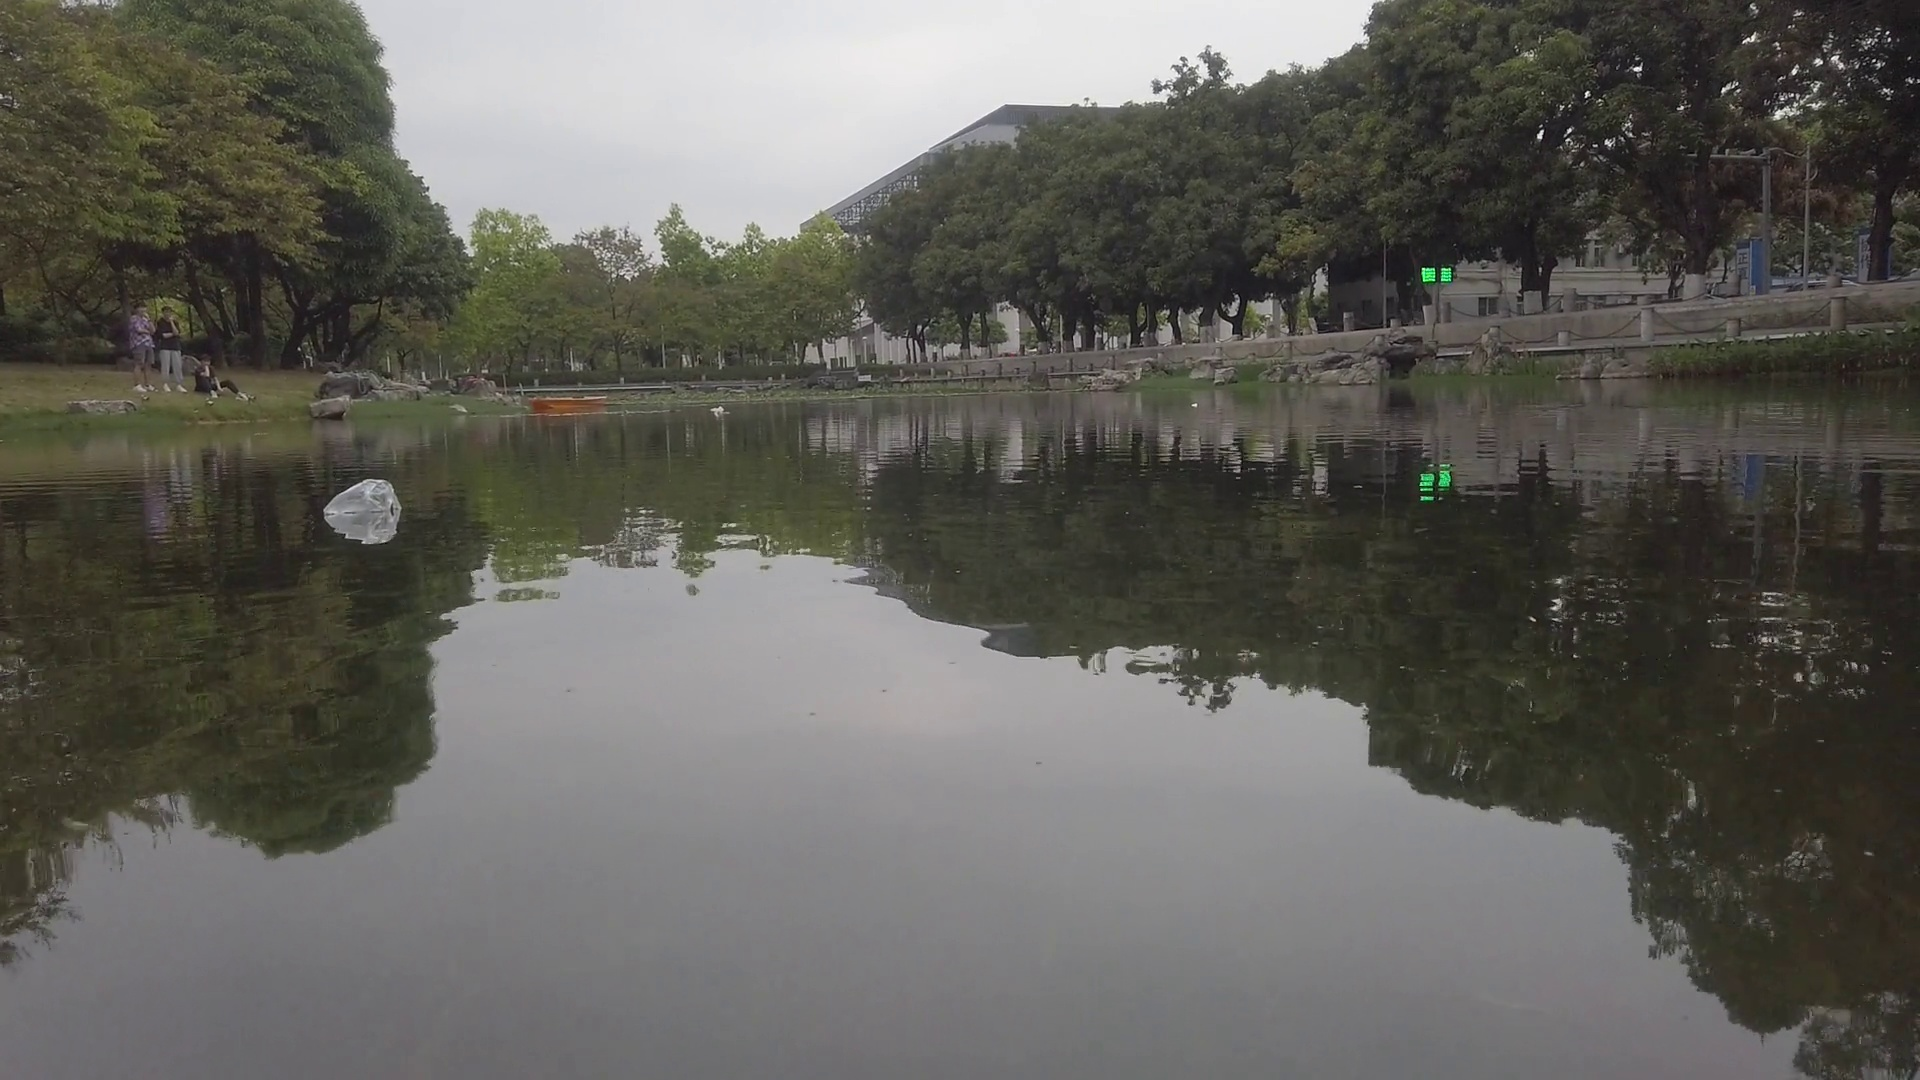paper: (1187, 400, 1207, 410)
plastic: (323, 473, 402, 514), (705, 407, 727, 417)
